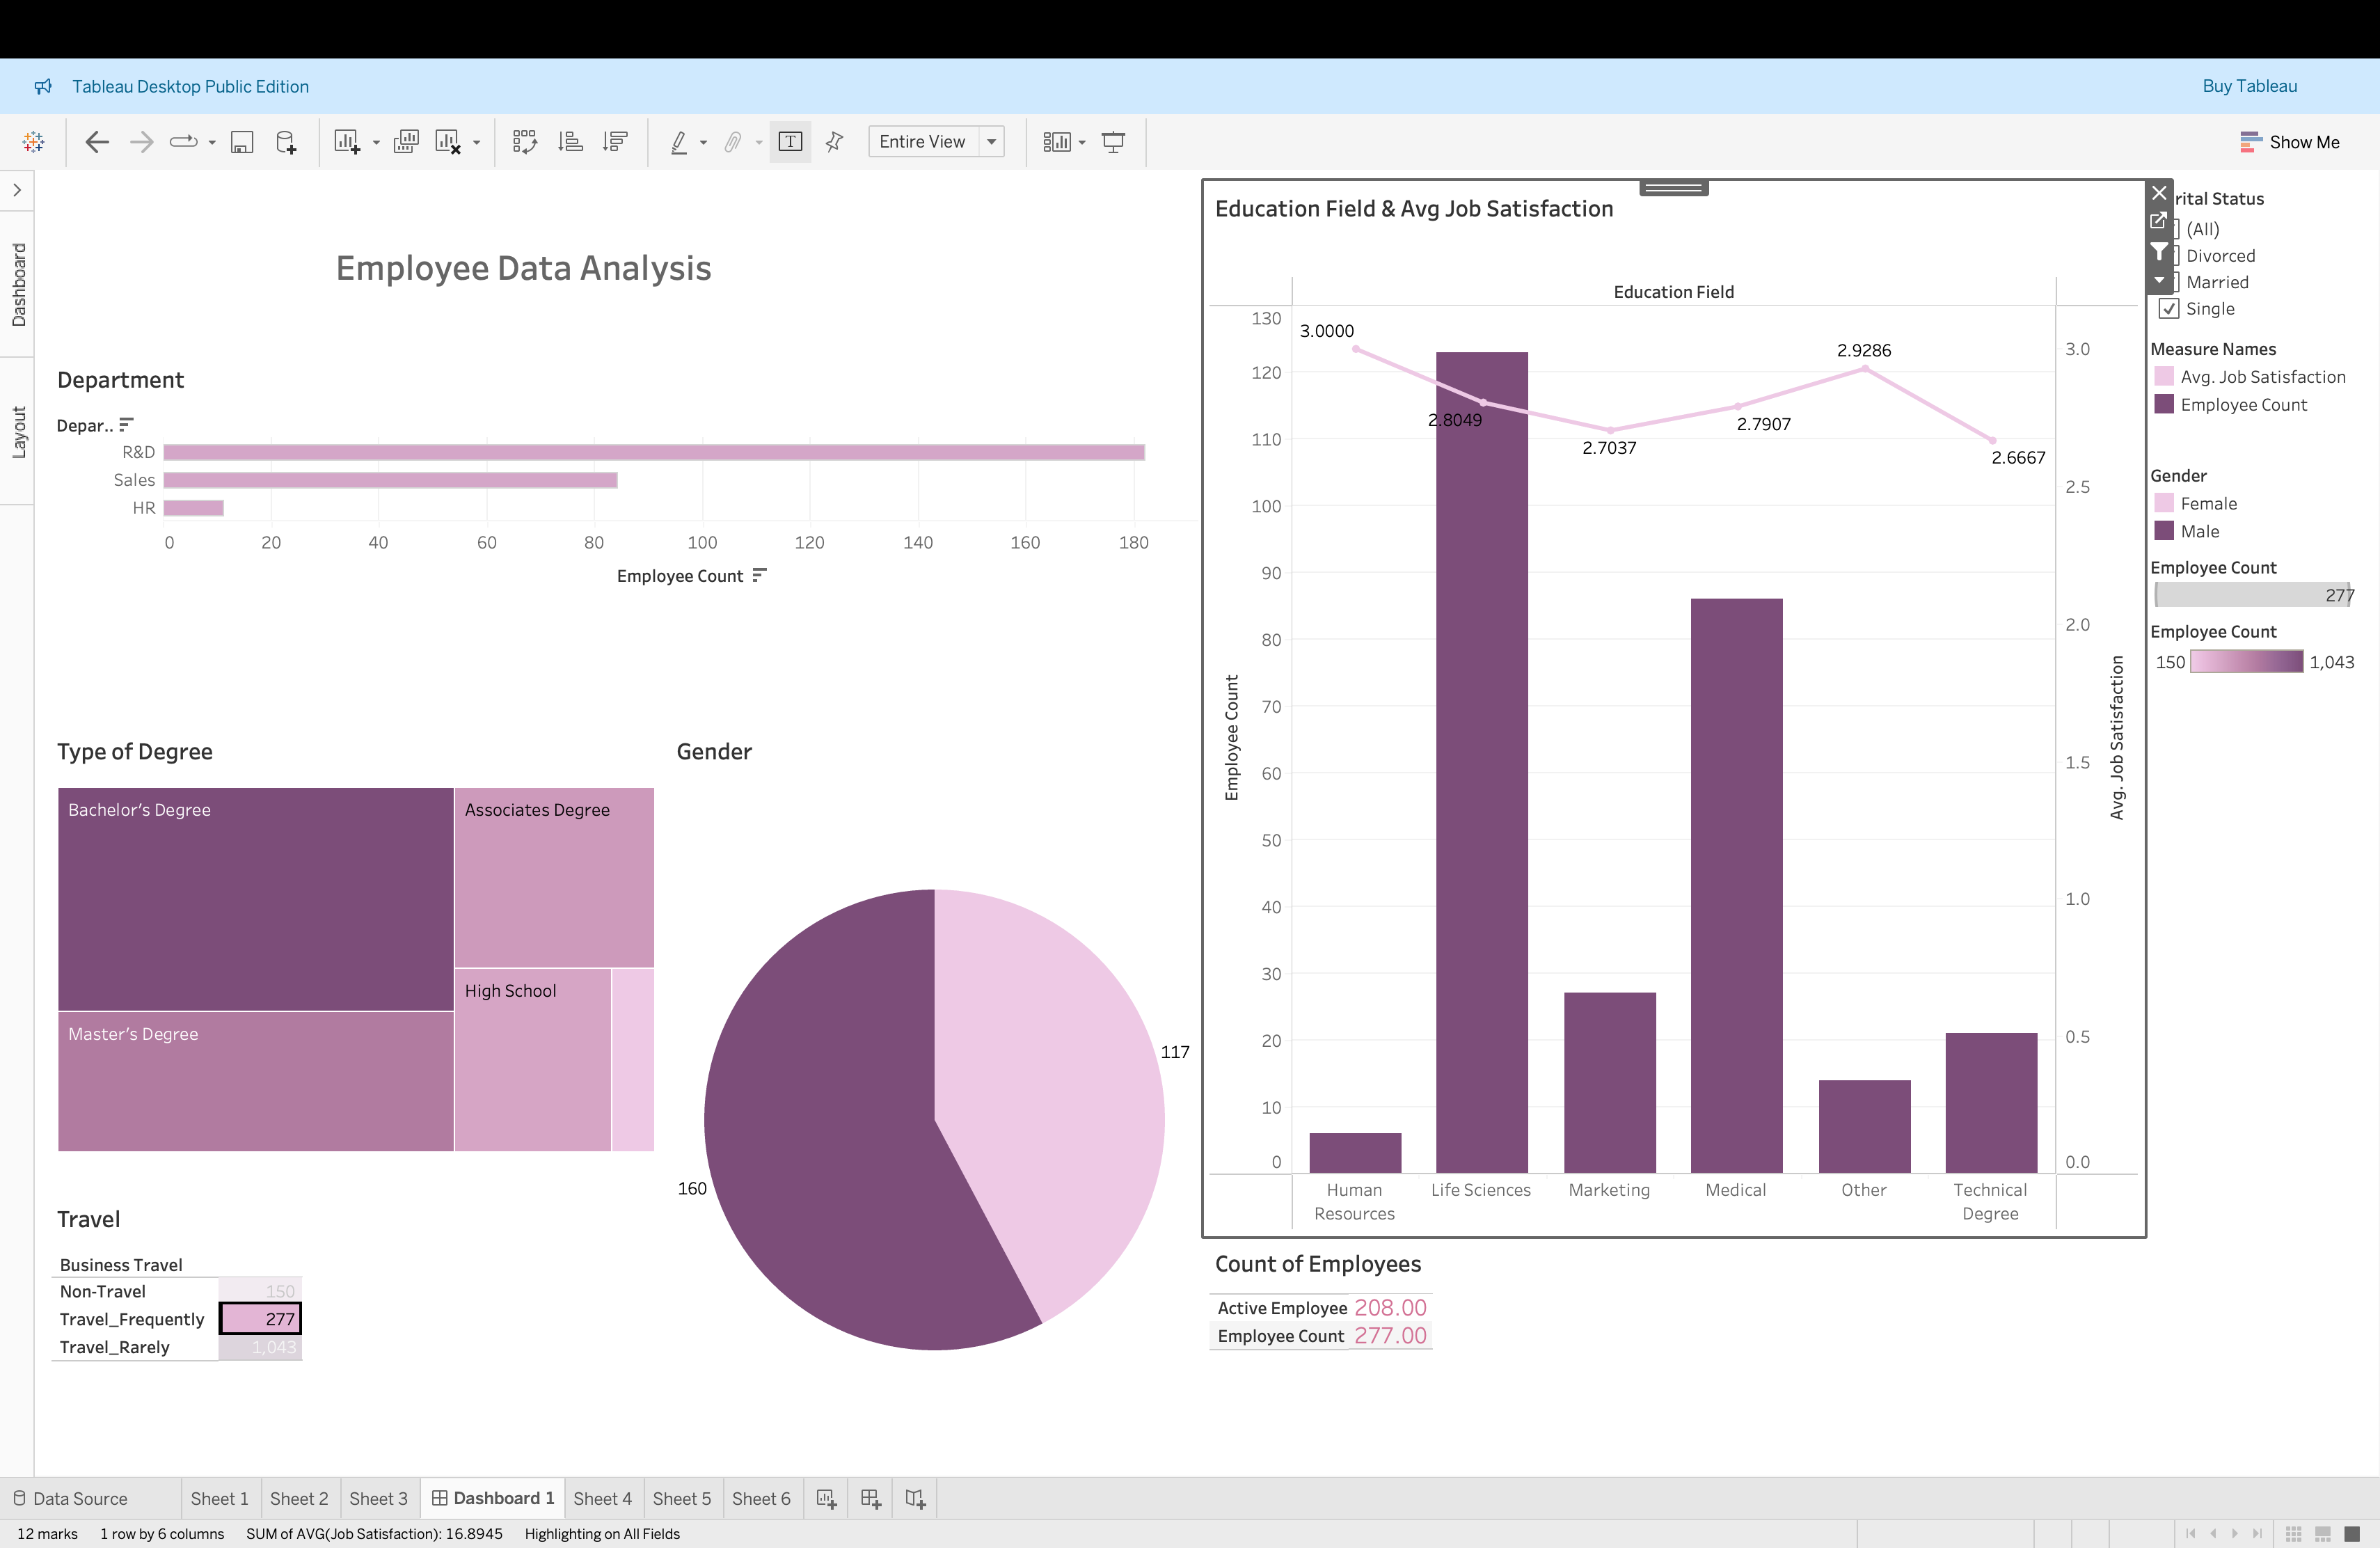

This screenshot's page, from the dashboard's own definition file:
{"tool":"tableau","page":{"name":"Dashboard 1","canvas":[1000,1000],"units":"permille","ordinal":0},"visuals":[{"type":"text","box":[5.3,9.5,487.1,130.4]},{"type":"worksheet","title":"Sheet 2","mark":"Bar","rows":["employee_count","job_satisfaction"],"cols":["education_field"],"box":[492.5,9.5,395.5,806.7]},{"type":"filter","title":"Sheet 2","param":"[federated.0h3shr201hcknz1aji9fe0ydkdjv].[none:marital_status:nk]","box":[887.9,9.5,106.7,128.4]},{"type":"legend","title":"Sheet 2","param":"[federated.0h3shr201hcknz1aji9fe0ydkdjv].[:Measure Names]","box":[887.9,137.9,106.7,108.2]},{"type":"worksheet","title":"Sheet 1","mark":"Bar","rows":["department"],"cols":["employee_count"],"box":[5.3,139.9,487.1,285]},{"type":"legend","title":"Sheet 4","param":"[federated.0h3shr201hcknz1aji9fe0ydkdjv].[none:gender:nk]","box":[887.9,246.1,106.7,78.5]},{"type":"legend","title":"Sheet 4","param":"[federated.0h3shr201hcknz1aji9fe0ydkdjv].[sum:employee_count:qk]","box":[887.9,324.6,106.7,54.7]},{"type":"legend","title":"Sheet 6","param":"[federated.0h3shr201hcknz1aji9fe0ydkdjv].[sum:employee_count:qk]","box":[887.9,379.3,106.7,88]},{"type":"worksheet","title":"Sheet 5","mark":"Automatic","box":[5.3,424.9,260.5,357.3]},{"type":"worksheet","title":"Sheet 4","mark":"Pie","box":[265.9,424.9,226.6,565.6]},{"type":"worksheet","title":"Sheet 6","mark":"Square","rows":["business_travel"],"box":[5.3,782.2,260.5,208.3]},{"type":"worksheet","title":"Sheet 3","mark":"Automatic","box":[492.5,816.2,395.5,174.3]}]}

Visuals, with their boxes on the dashboard's canvas, which has no fixed pixel size, in thousandths of its width and height (x1, y1, x2, y2). These are canvas units, not pixel positions in the 2380x1548 screenshot, which may show the page scaled, cropped or inside an application window:
text: detection(5, 10, 492, 140)
"Sheet 2" worksheet (Bar marks): detection(492, 10, 888, 816)
"Sheet 2" filter: detection(888, 10, 995, 138)
"Sheet 2" legend: detection(888, 138, 995, 246)
"Sheet 1" worksheet (Bar marks): detection(5, 140, 492, 425)
"Sheet 4" legend: detection(888, 246, 995, 325)
"Sheet 4" legend: detection(888, 325, 995, 379)
"Sheet 6" legend: detection(888, 379, 995, 467)
"Sheet 5" worksheet: detection(5, 425, 266, 782)
"Sheet 4" worksheet (Pie marks): detection(266, 425, 492, 990)
"Sheet 6" worksheet (Square marks): detection(5, 782, 266, 990)
"Sheet 3" worksheet: detection(492, 816, 888, 990)
